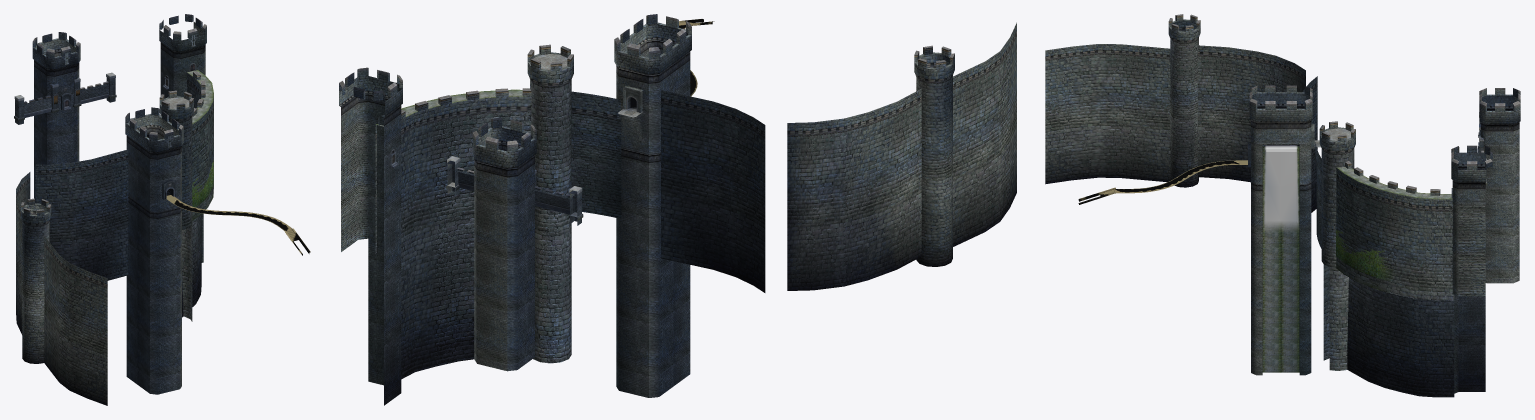
Rendered from Rooftops3.glb.
The picture shows the model from 3 angles, left to right: view 1: azimuth 30°, elevation 25°; view 2: azimuth 150°, elevation 25°; view 3: azimuth 270°, elevation 25°; orthographic projection. The views are drawn at different scales.
Parts seen in each view (by area): view 1: stg102_os38_Mesh_0000, stg102_os38_Mesh_0002, stg102_a38_Mesh_0000, stg102_a38_Mesh_0001, stg102_os38_Mesh_0005, stg102_os38_Mesh_0003; view 2: stg102_os38_Mesh_0000, stg102_os38_Mesh_0002, stg102_os38_Mesh_0005; view 3: stg102_os38_Mesh_0000, stg102_os38_Mesh_0002, stg102_os38_Mesh_0005, stg102_waterfall_38_Mesh_0001, stg102_a38_Mesh_0001, stg102_a38_Mesh_0000.
Part boxes in pixels (bbox=[...]): stg102_os38_Mesh_0000: bbox=[15, 49, 213, 405]; stg102_os38_Mesh_0002: bbox=[15, 14, 213, 288]; stg102_a38_Mesh_0000: bbox=[166, 195, 310, 255]; stg102_a38_Mesh_0001: bbox=[192, 160, 213, 220]; stg102_os38_Mesh_0005: bbox=[187, 70, 213, 124]; stg102_os38_Mesh_0003: bbox=[14, 72, 115, 117]; stg102_os38_Mesh_0000: bbox=[341, 36, 1016, 405]; stg102_os38_Mesh_0002: bbox=[339, 14, 1016, 202]; stg102_os38_Mesh_0005: bbox=[376, 89, 525, 126]; stg102_os38_Mesh_0000: bbox=[1045, 38, 1519, 397]; stg102_os38_Mesh_0002: bbox=[1045, 14, 1520, 211]; stg102_os38_Mesh_0005: bbox=[1262, 146, 1452, 372]; stg102_waterfall_38_Mesh_0001: bbox=[1263, 145, 1299, 230]; stg102_a38_Mesh_0001: bbox=[1336, 230, 1392, 291]; stg102_a38_Mesh_0000: bbox=[1078, 160, 1247, 204].
Bounding box in the file's own units: 143 × 114 × 179.
19 materials, 19 textured.
